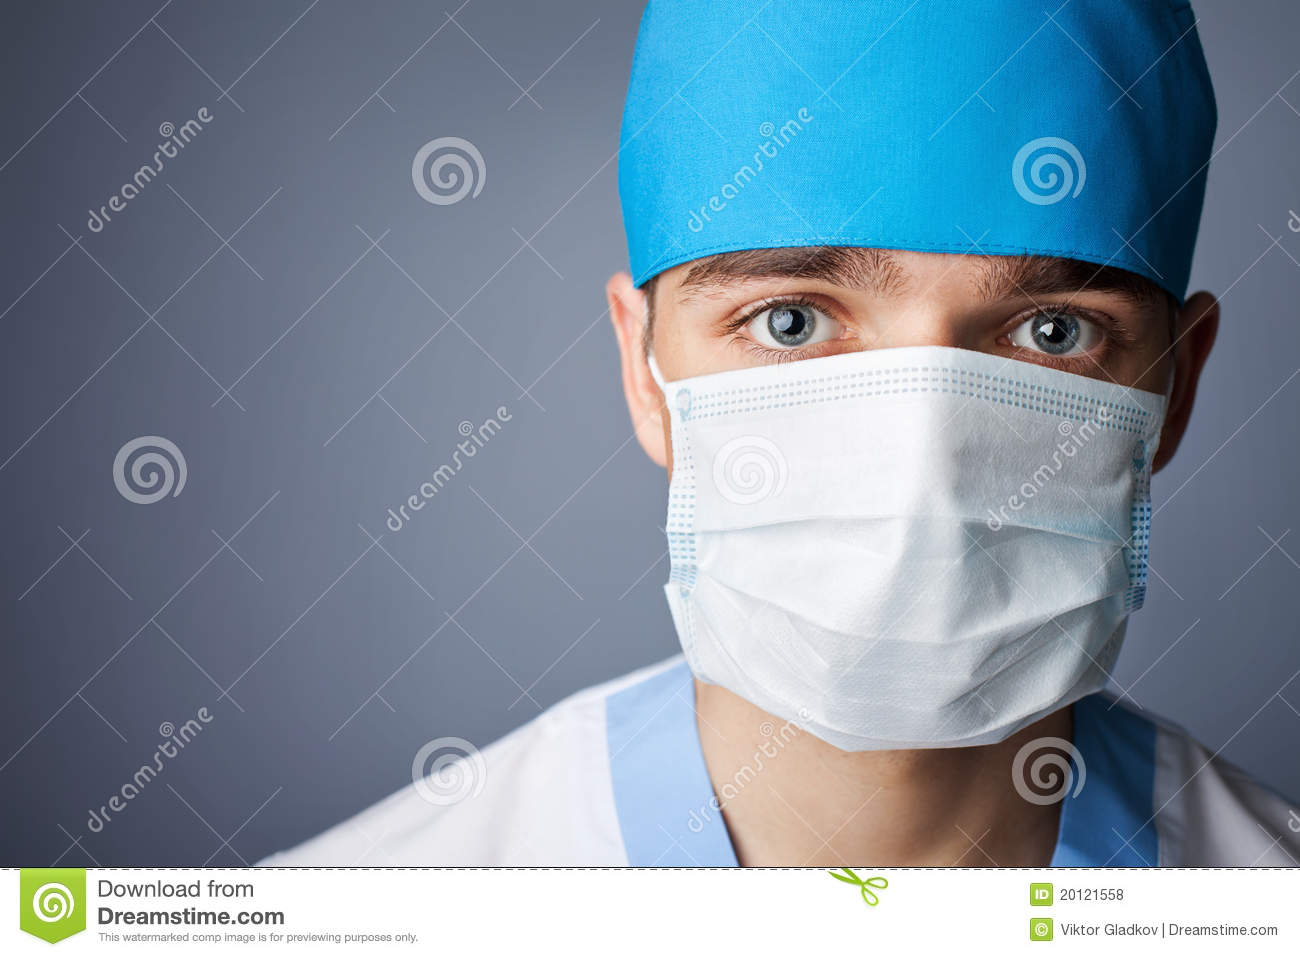mask: (650, 366, 1192, 763)
